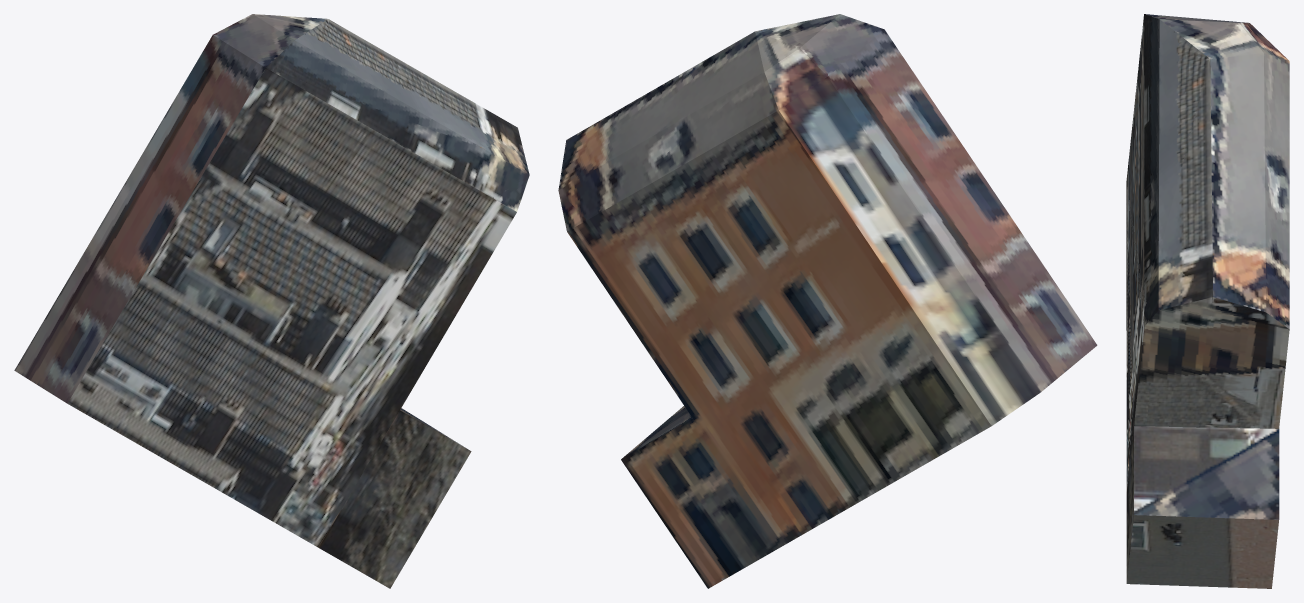
3 views of the same model, side by side, from view 1: azimuth 30°, elevation 25°; view 2: azimuth 150°, elevation 25°; view 3: azimuth 270°, elevation 25° (orthographic). The views are drawn at different scales.
Visible parts, largest first — view 1: BAG_0599100000671675 (×4); view 2: BAG_0599100000671675 (×5); view 3: BAG_0599100000671675 (×5).
Boxes of the visible parts, <box> form: BAG_0599100000671675 (×4): <box>14,14,529,588</box>; BAG_0599100000671675 (×5): <box>558,14,1097,588</box>; BAG_0599100000671675 (×5): <box>1126,14,1289,588</box>.
Size of the model in its own units: 18.9 by 20.44 by 5.66.
Materials: 5 (5 with a texture image).
